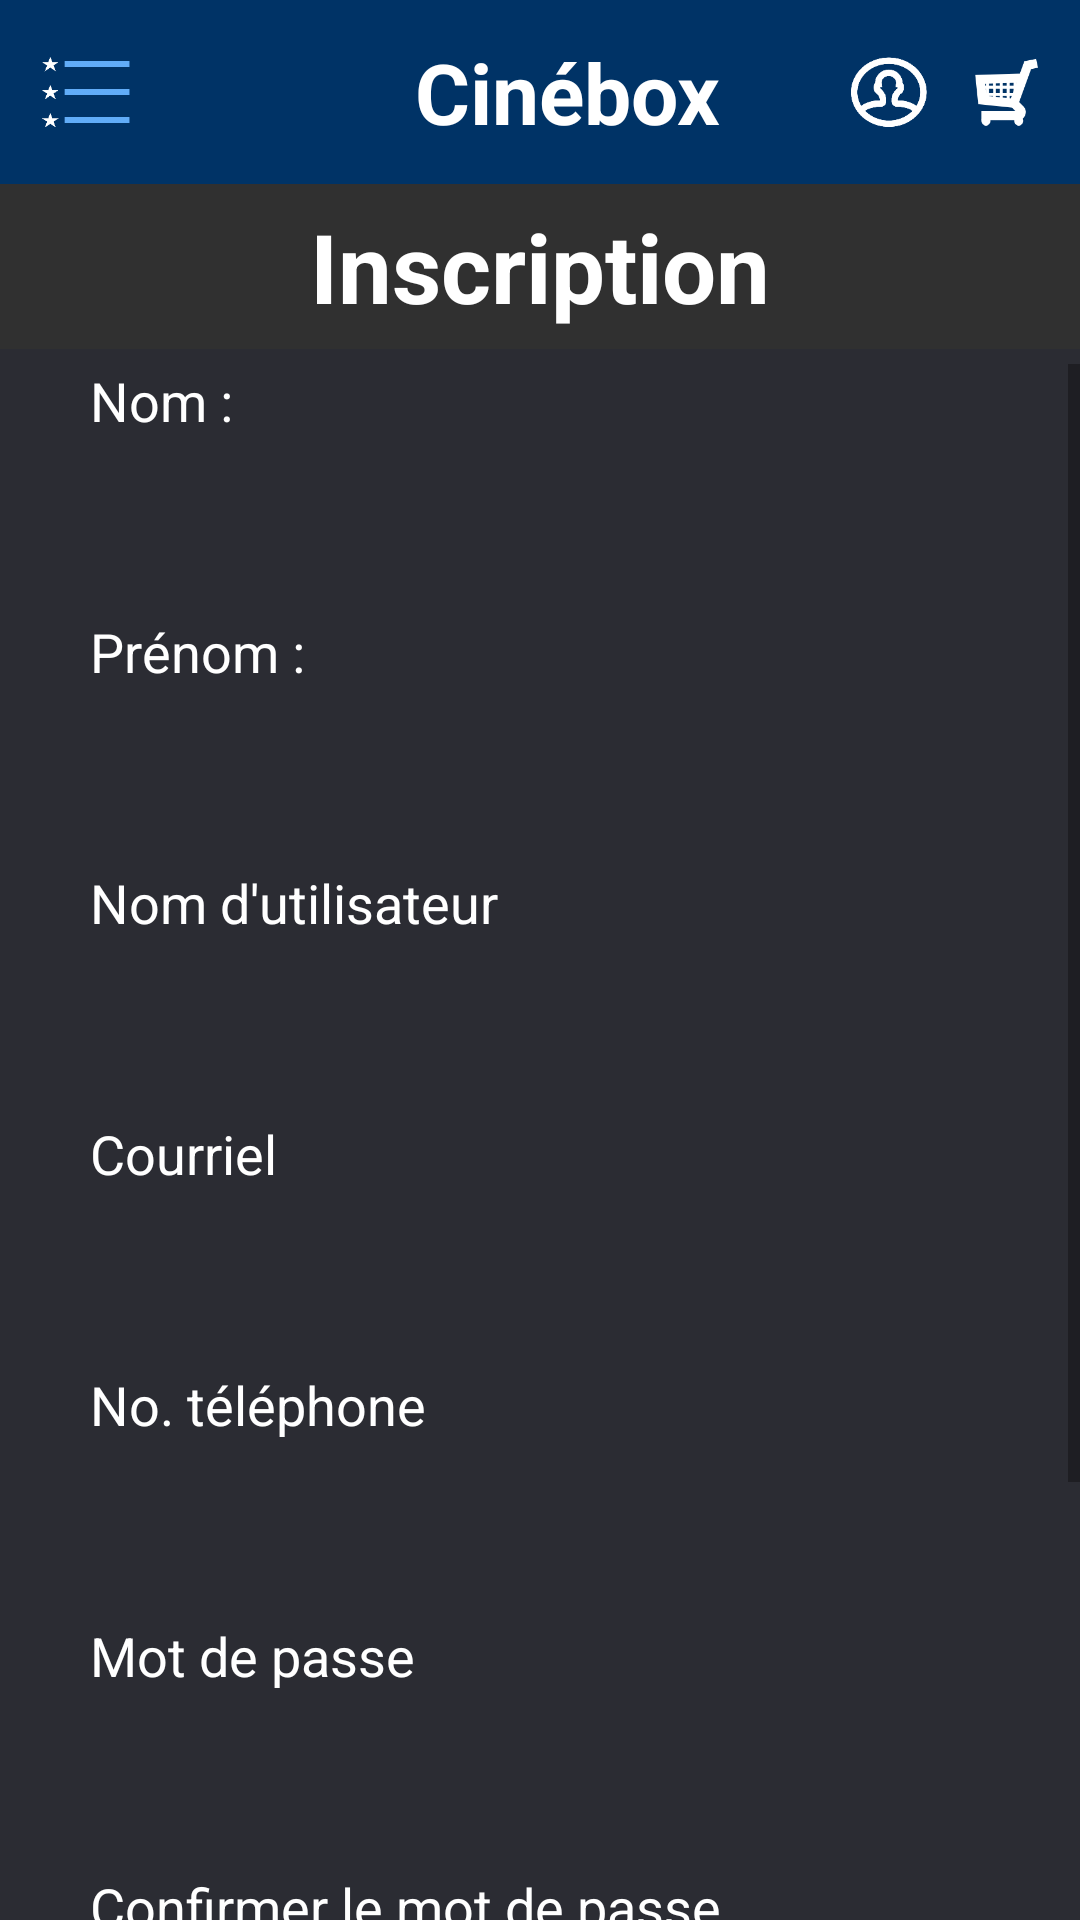

Screen size 1080px×1920px. Icon name, then its center in pixels as point (x, y):
cart: point (1006, 92)
list: point (86, 92)
profil: point (889, 92)
